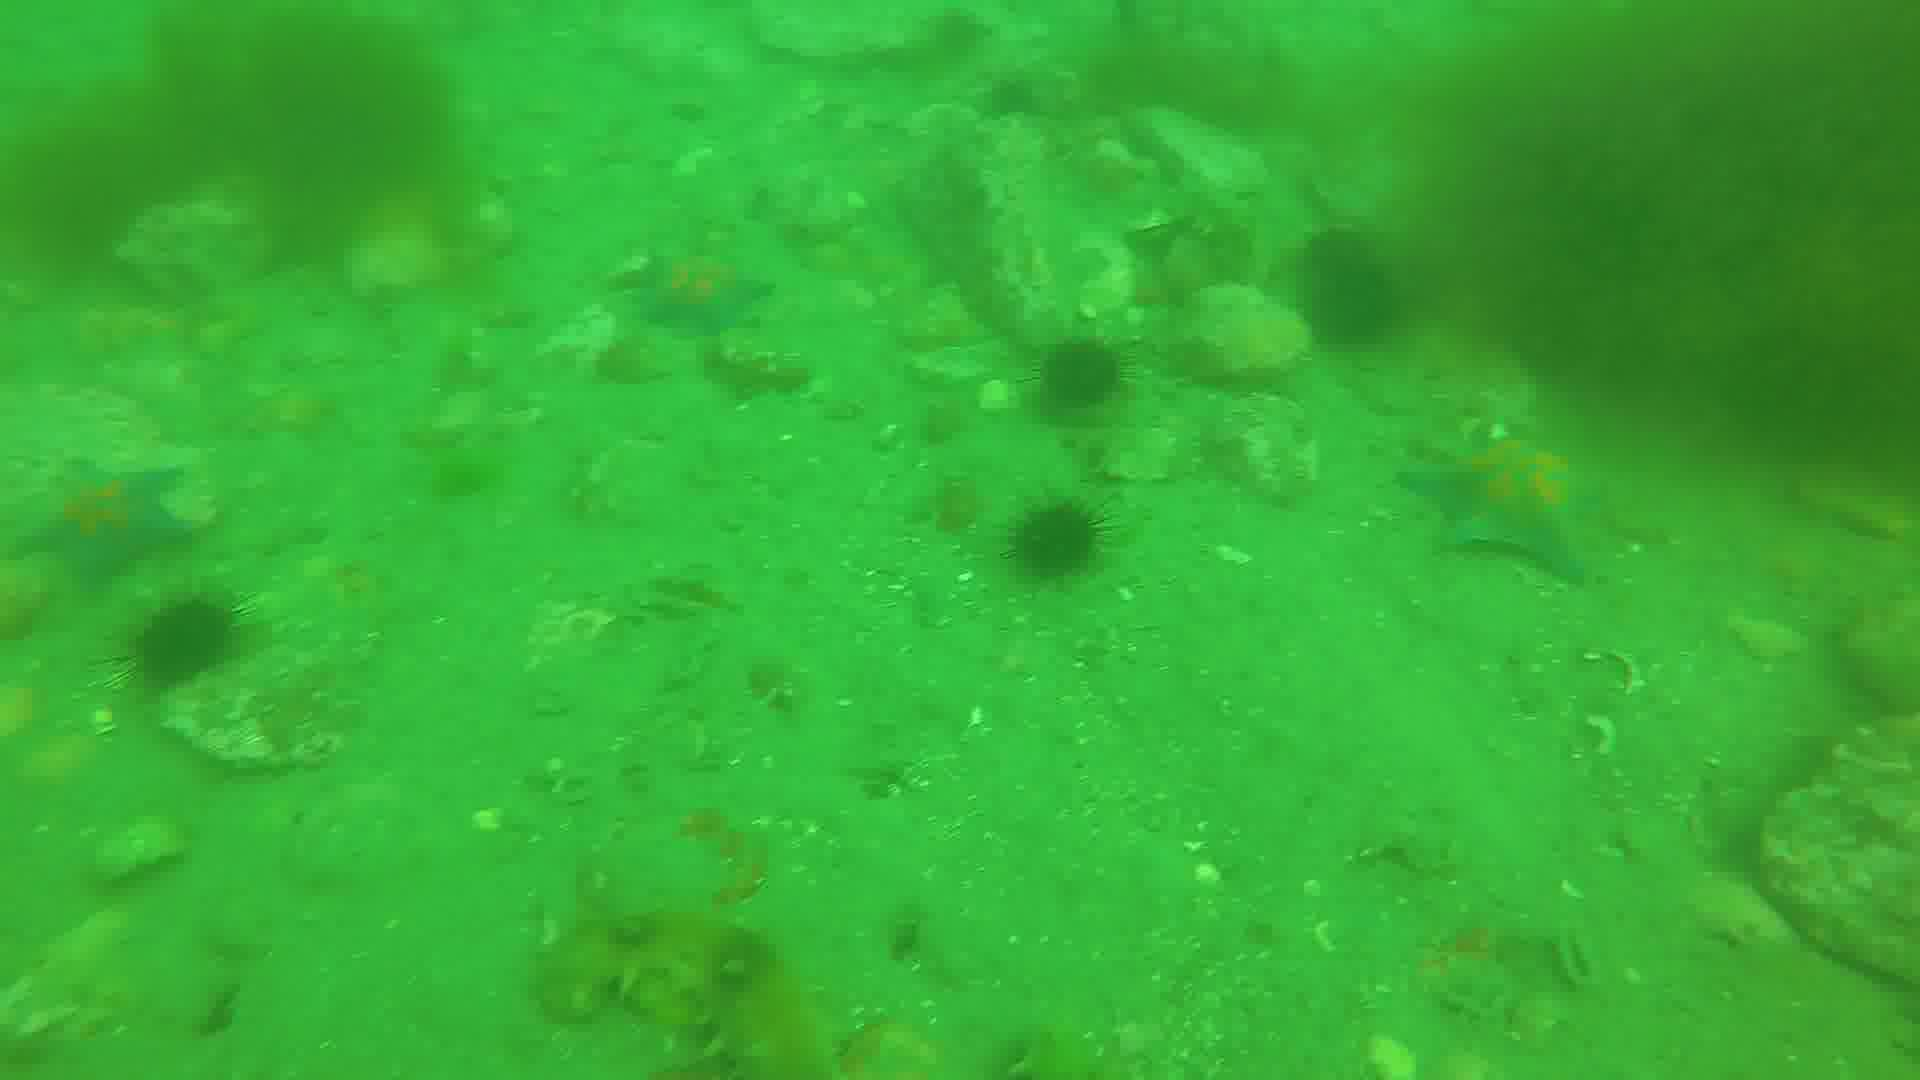echinus: (127, 592, 244, 700), (1305, 239, 1403, 355), (1002, 489, 1110, 588), (1039, 334, 1142, 419)
holothurian: (556, 909, 843, 1080)
starfish: (1415, 419, 1629, 585), (15, 462, 195, 584), (637, 247, 777, 339)
